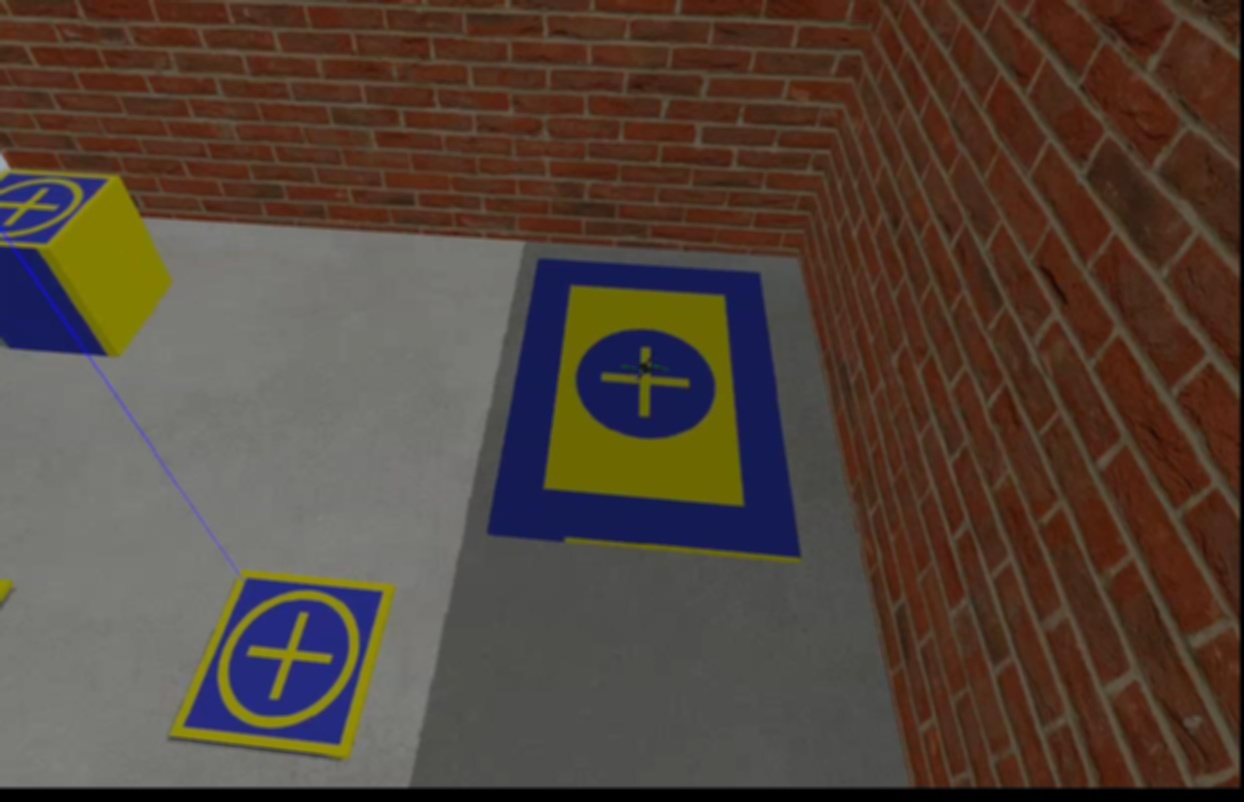large_base: (489, 250, 808, 567)
small_base: (175, 571, 396, 755), (0, 164, 122, 267)
